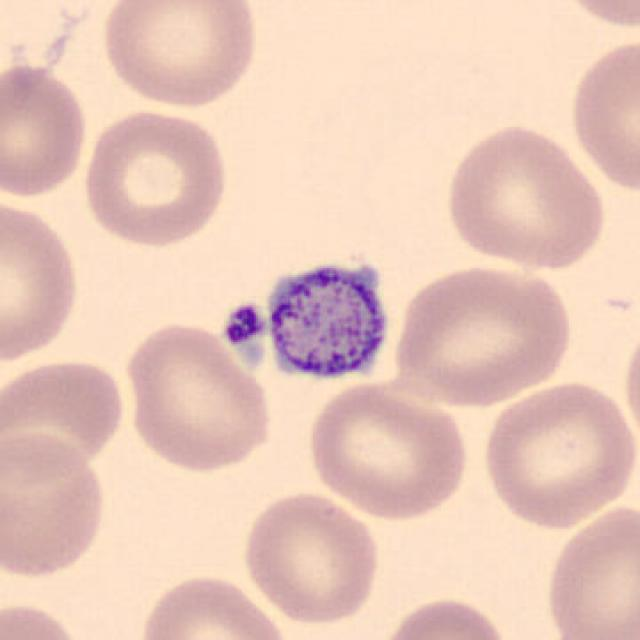Platelets: (259, 254, 396, 390), (218, 300, 268, 349)
RBC: (389, 259, 576, 409), (441, 120, 611, 273), (119, 317, 277, 476), (476, 377, 636, 531), (304, 379, 473, 524), (78, 106, 231, 250), (238, 488, 384, 628), (96, 0, 261, 111), (0, 426, 112, 584), (0, 354, 130, 482), (0, 196, 84, 367), (540, 500, 638, 640), (0, 62, 91, 201), (565, 34, 640, 198), (134, 569, 294, 640), (375, 592, 514, 640), (0, 597, 89, 640), (546, 0, 640, 32), (620, 314, 640, 456)
